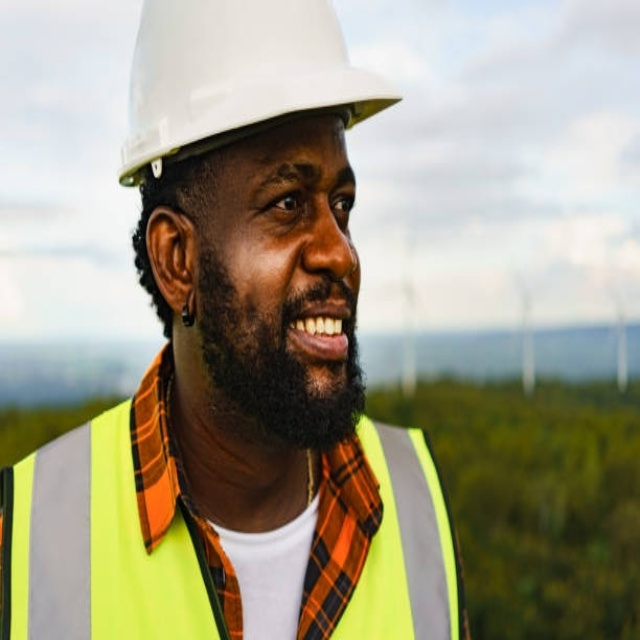Sin_gafas: (222, 158, 360, 242)
Sin_mascara: (260, 287, 360, 391)
